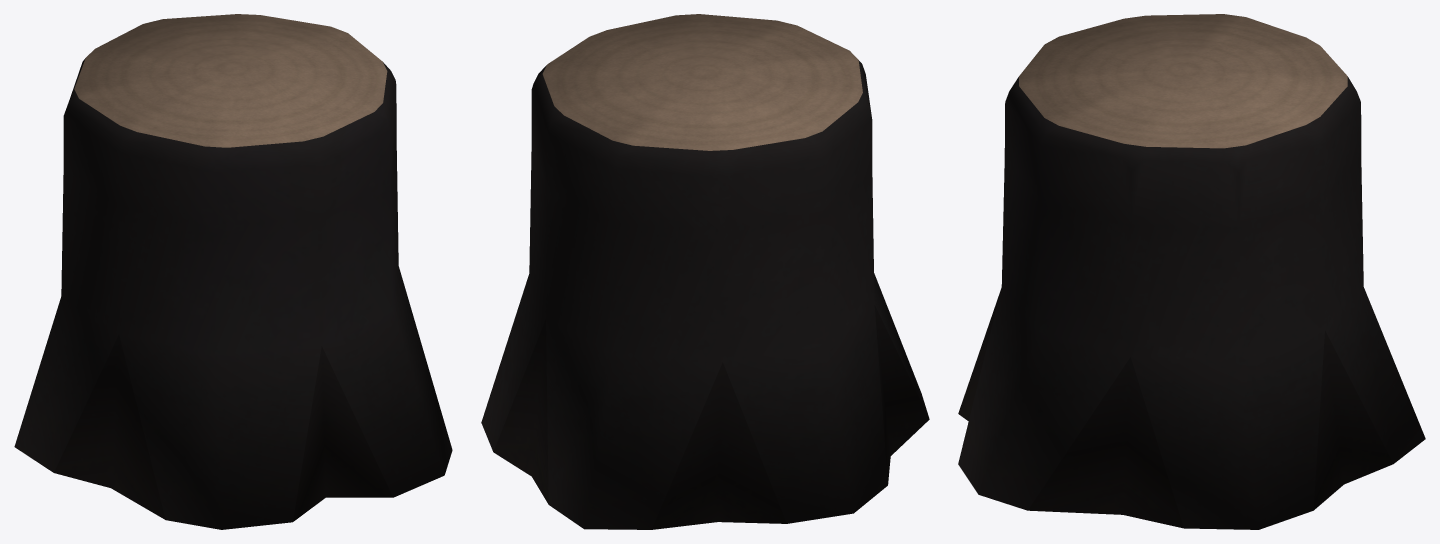
File: Simple_Trees_XS.fbx
3 views of the same model, side by side, from view 1: azimuth 30°, elevation 25°; view 2: azimuth 150°, elevation 25°; view 3: azimuth 270°, elevation 25° (orthographic). The views are drawn at different scales.
Visible parts, largest first — view 1: Simple_Trees_XS; view 2: Simple_Trees_XS; view 3: Simple_Trees_XS.
Boxes of the visible parts, x1,y1,x2,y2 form: Simple_Trees_XS: (14,14,452,529); Simple_Trees_XS: (481,14,929,529); Simple_Trees_XS: (958,14,1425,529).
Bounding box in the file's own units: 0.2727 × 0.2591 × 0.2963.
1 material, 1 textured.
